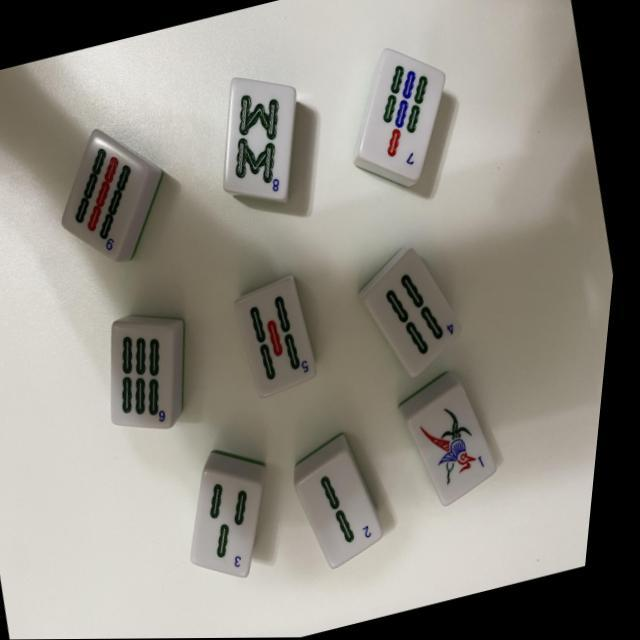sb1: (413, 381, 507, 508)
sb2: (296, 430, 397, 574)
sb3: (197, 446, 276, 580)
sb4: (362, 239, 470, 380)
sb5: (238, 275, 325, 399)
sb6: (116, 313, 192, 430)
sb7: (355, 45, 446, 191)
sb8: (225, 79, 296, 199)
sb9: (62, 127, 151, 260)
